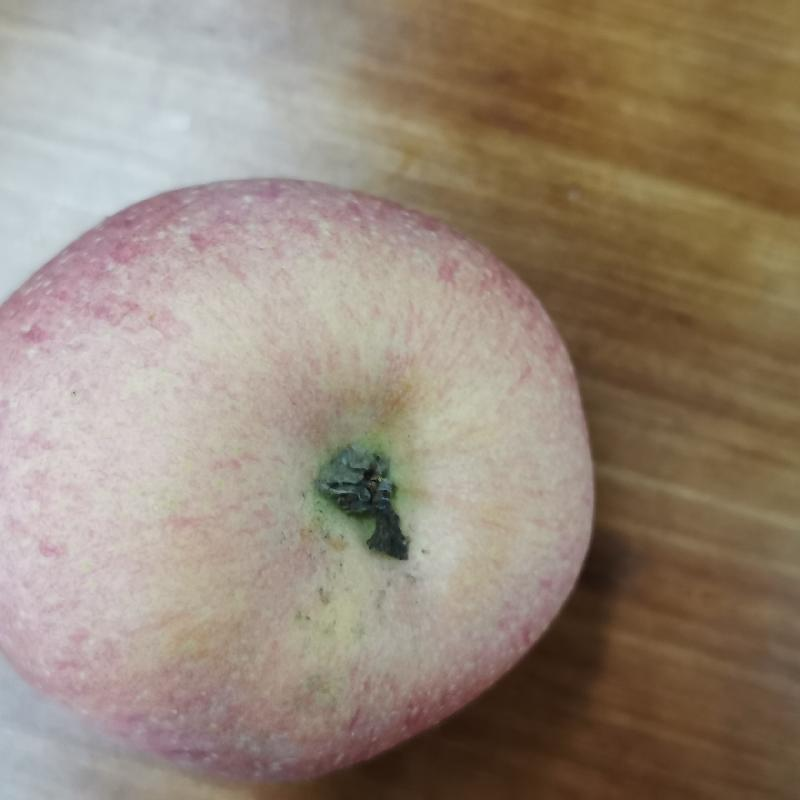apples: (0, 168, 598, 783)
